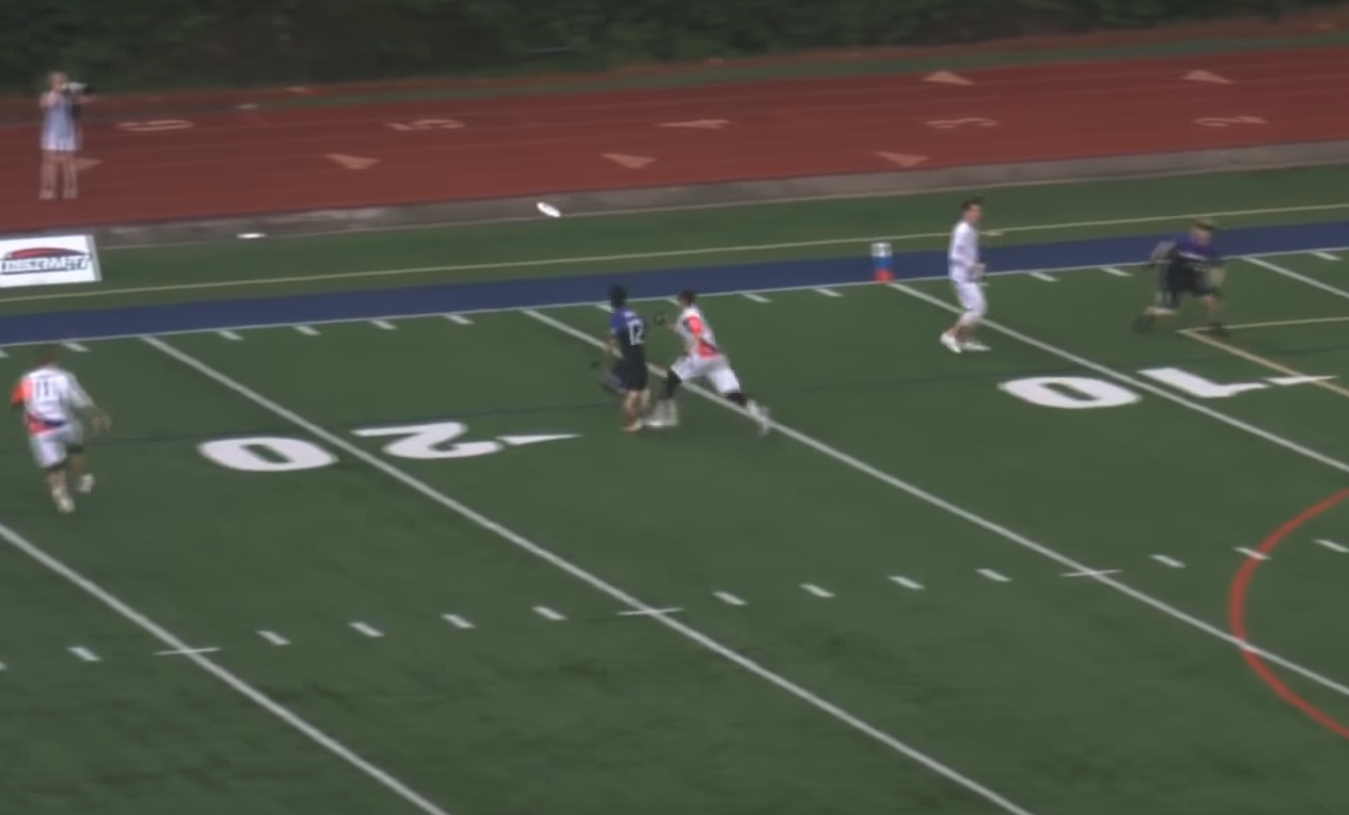frisbee: (536, 201, 562, 219), (237, 231, 266, 240)
